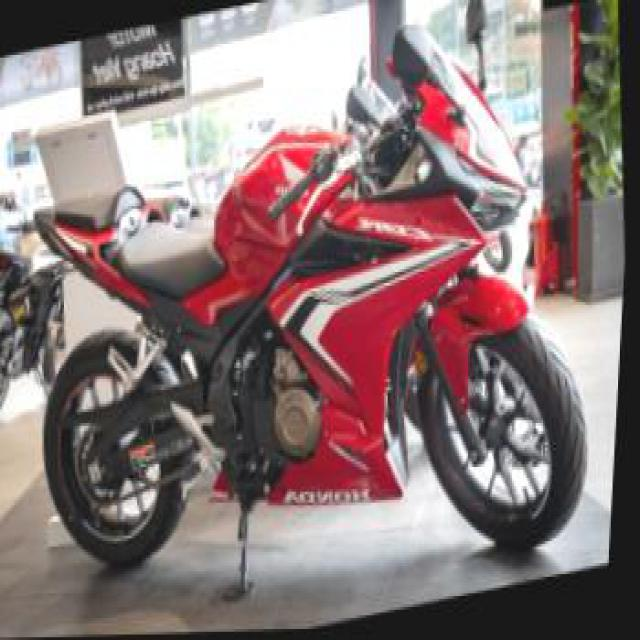CBR500R: (14, 0, 622, 638)
